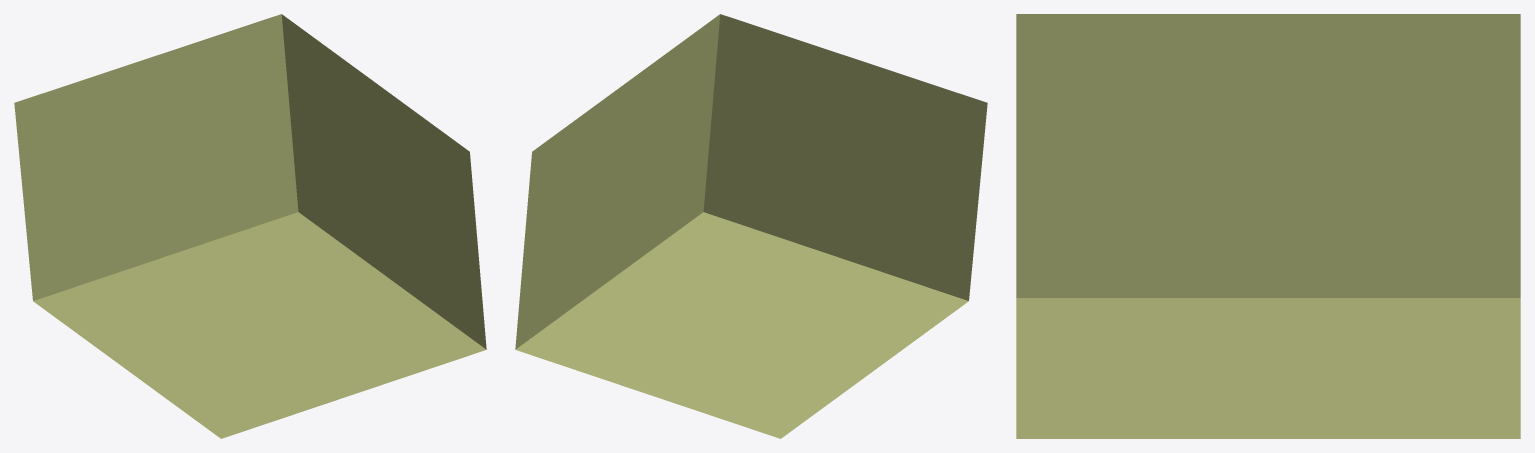
3 views of the same model, side by side, from view 1: azimuth 30°, elevation 25°; view 2: azimuth 150°, elevation 25°; view 3: azimuth 270°, elevation 25° (orthographic). The views are drawn at different scales.
Parts seen in each view (by area): view 1: 0_2_3_3_3_1_0_1_3_0_3; view 2: 0_2_3_3_3_1_0_1_3_0_3; view 3: 0_2_3_3_3_1_0_1_3_0_3.
Part boxes in pixels (x1=…): 0_2_3_3_3_1_0_1_3_0_3: x1=14, y1=14, x2=486, y2=438; 0_2_3_3_3_1_0_1_3_0_3: x1=515, y1=14, x2=987, y2=438; 0_2_3_3_3_1_0_1_3_0_3: x1=1016, y1=14, x2=1520, y2=438.
Size of the model in its own units: 7.84 by 5.98 by 9.
